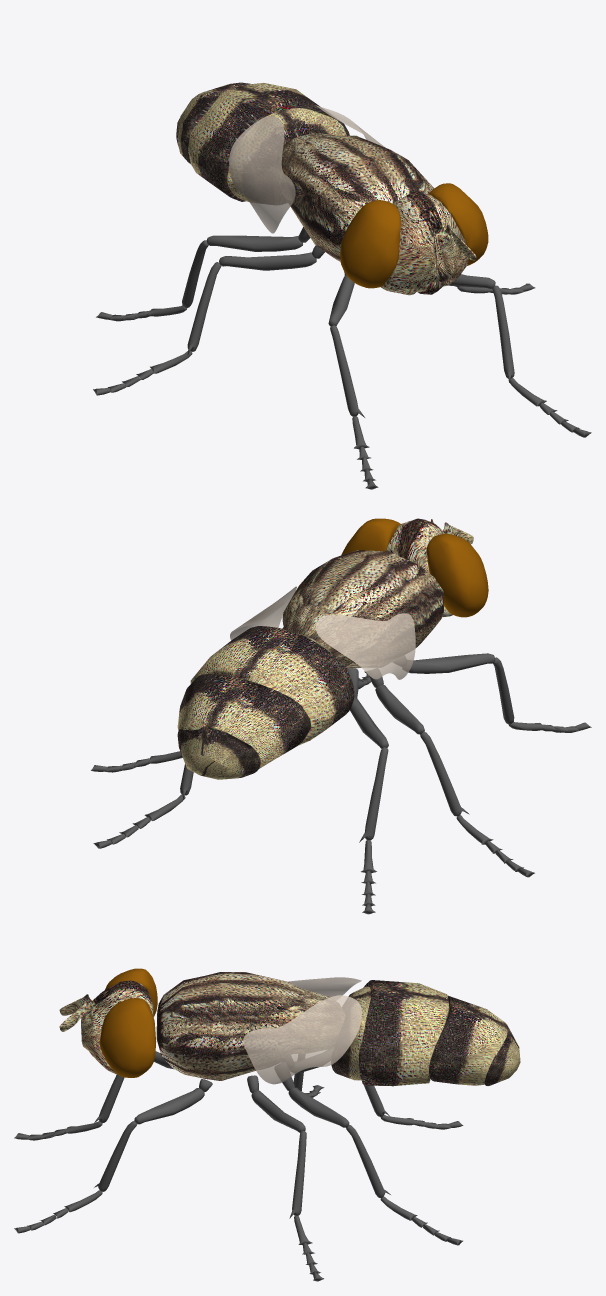
The model's file is Pashsha.fbx.
3 views of the same model, one above another, from view 1: azimuth 30°, elevation 25°; view 2: azimuth 150°, elevation 25°; view 3: azimuth 270°, elevation 25° (orthographic). The views are drawn at different scales.
Visible parts, largest first — view 1: Fly; view 2: Fly; view 3: Fly.
Boxes of the visible parts, left/top/right/bottom form: Fly: left=93, top=82, right=591, bottom=489; Fly: left=91, top=518, right=591, bottom=914; Fly: left=14, top=968, right=520, bottom=1281.
Bounding box in the file's own units: 1008 × 526 × 1269.
Materials: 7 (3 with a texture image).
